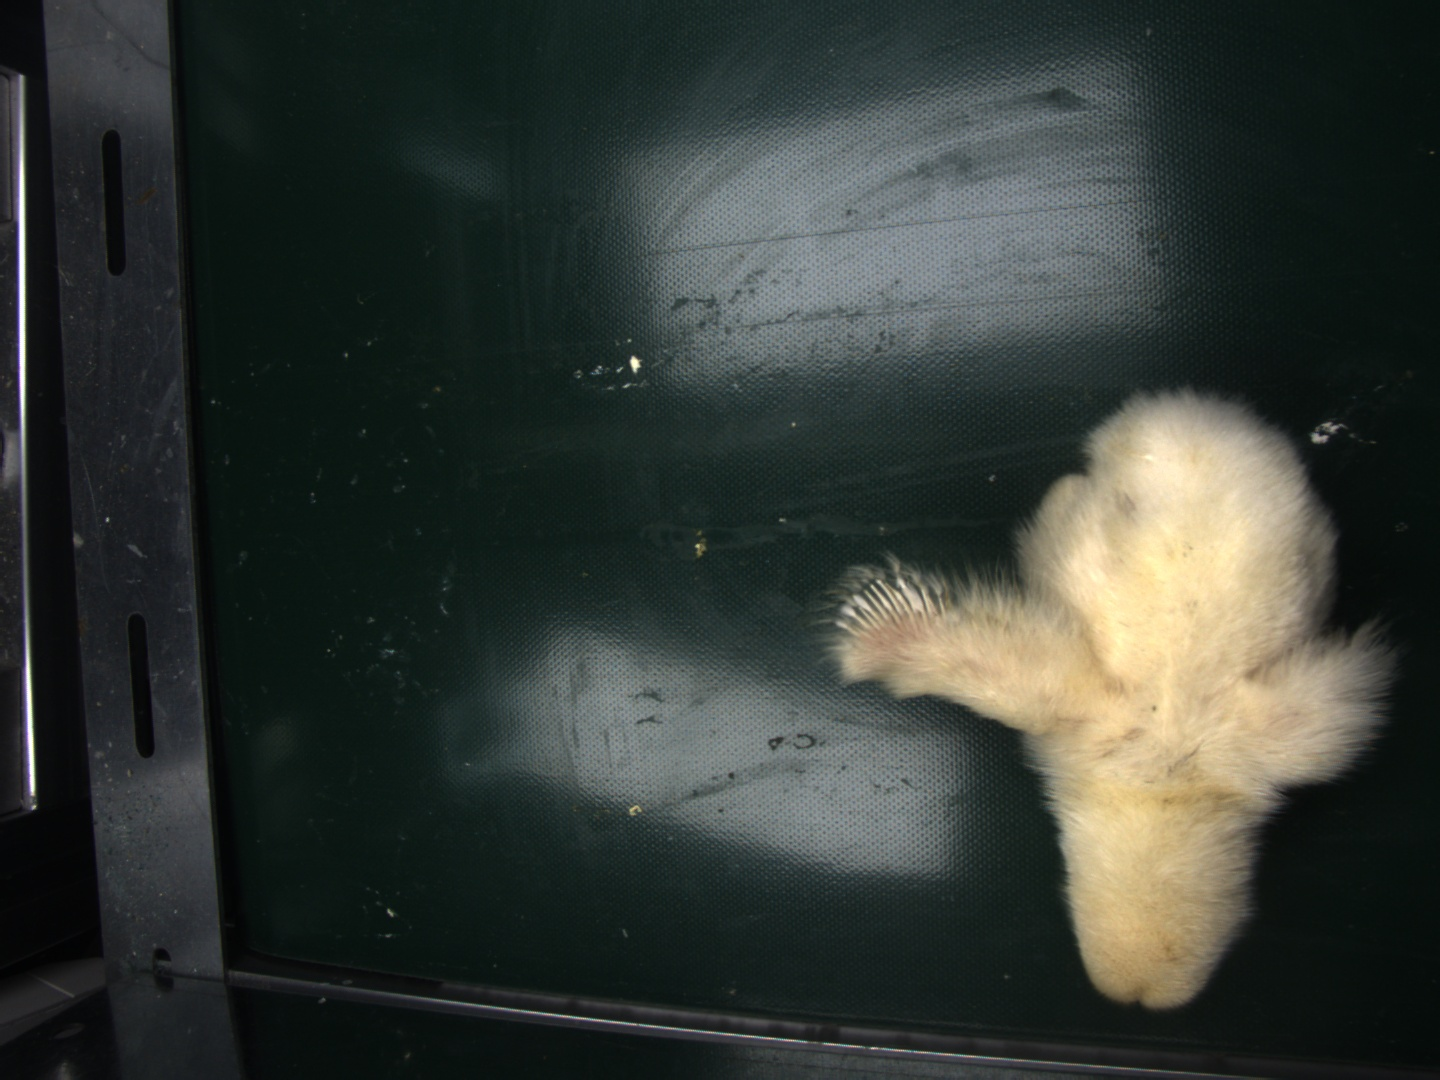male: (838, 576, 934, 642)
